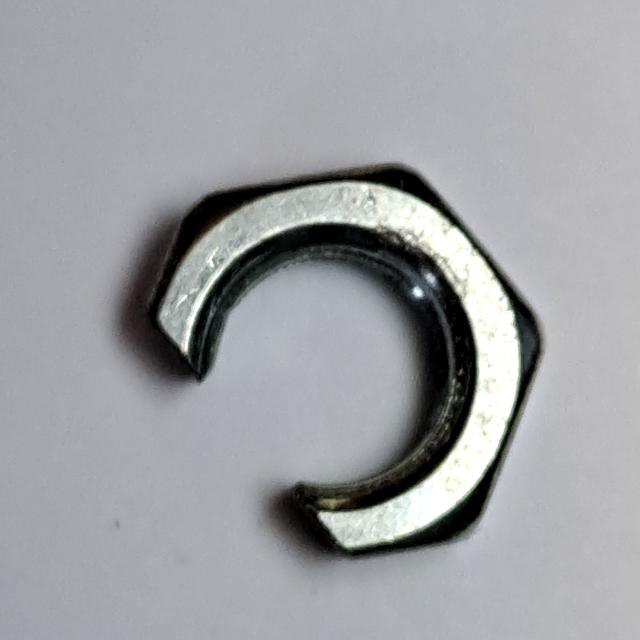Fracture: (130, 139, 559, 566)
